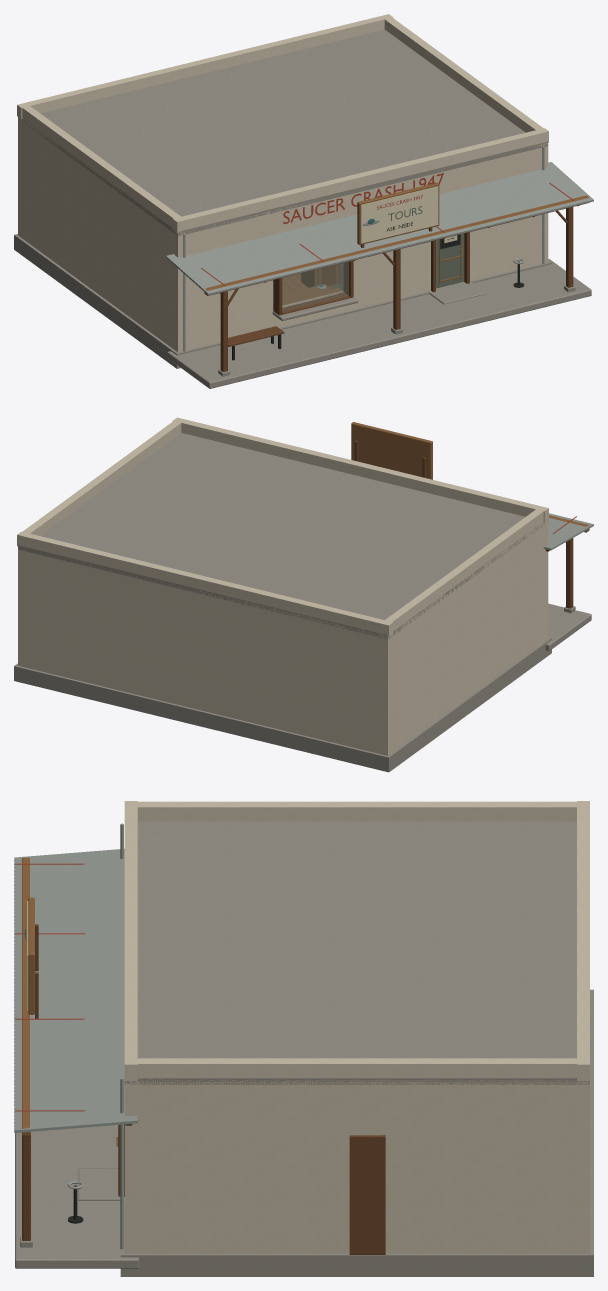
File: Saucer_Crash_1947.glb
The picture shows the model from 3 angles, top to bottom: view 1: azimuth 30°, elevation 25°; view 2: azimuth 150°, elevation 25°; view 3: azimuth 270°, elevation 25°; orthographic projection. The views are drawn at different scales.
Visible parts, largest first — view 1: SM_Souvenir_Shell, SM_Souvenir_Glass, SM_Souvenir_Interior; view 2: SM_Souvenir_Shell; view 3: SM_Souvenir_Shell, SM_Souvenir_Interior.
Boxes of the visible parts, left/top/right/bottom form: SM_Souvenir_Shell: left=14, top=14, right=593, bottom=388; SM_Souvenir_Glass: left=282, top=261, right=348, bottom=311; SM_Souvenir_Interior: left=282, top=264, right=339, bottom=300; SM_Souvenir_Shell: left=14, top=417, right=593, bottom=772; SM_Souvenir_Shell: left=14, top=801, right=593, bottom=1276; SM_Souvenir_Interior: left=349, top=1135, right=385, bottom=1254.
Size of the model in its own units: 12.5 by 4.71 by 11.22.
Materials: 17 (4 with a texture image).
